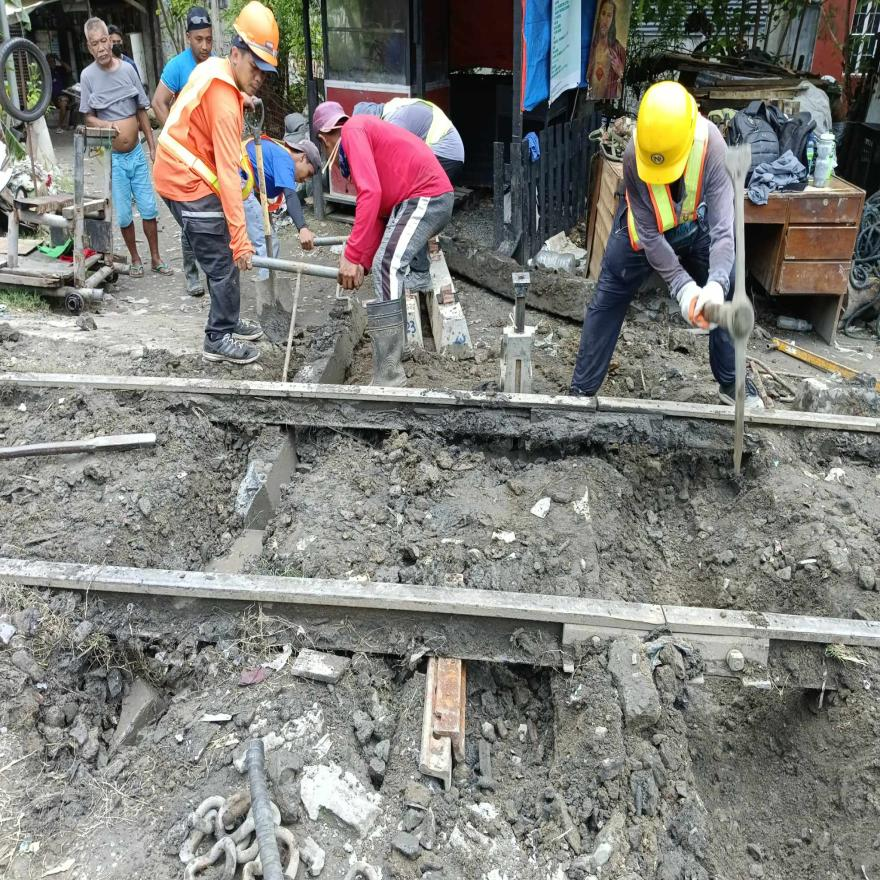railway-gap: (637, 591, 692, 651), (578, 380, 618, 431)
